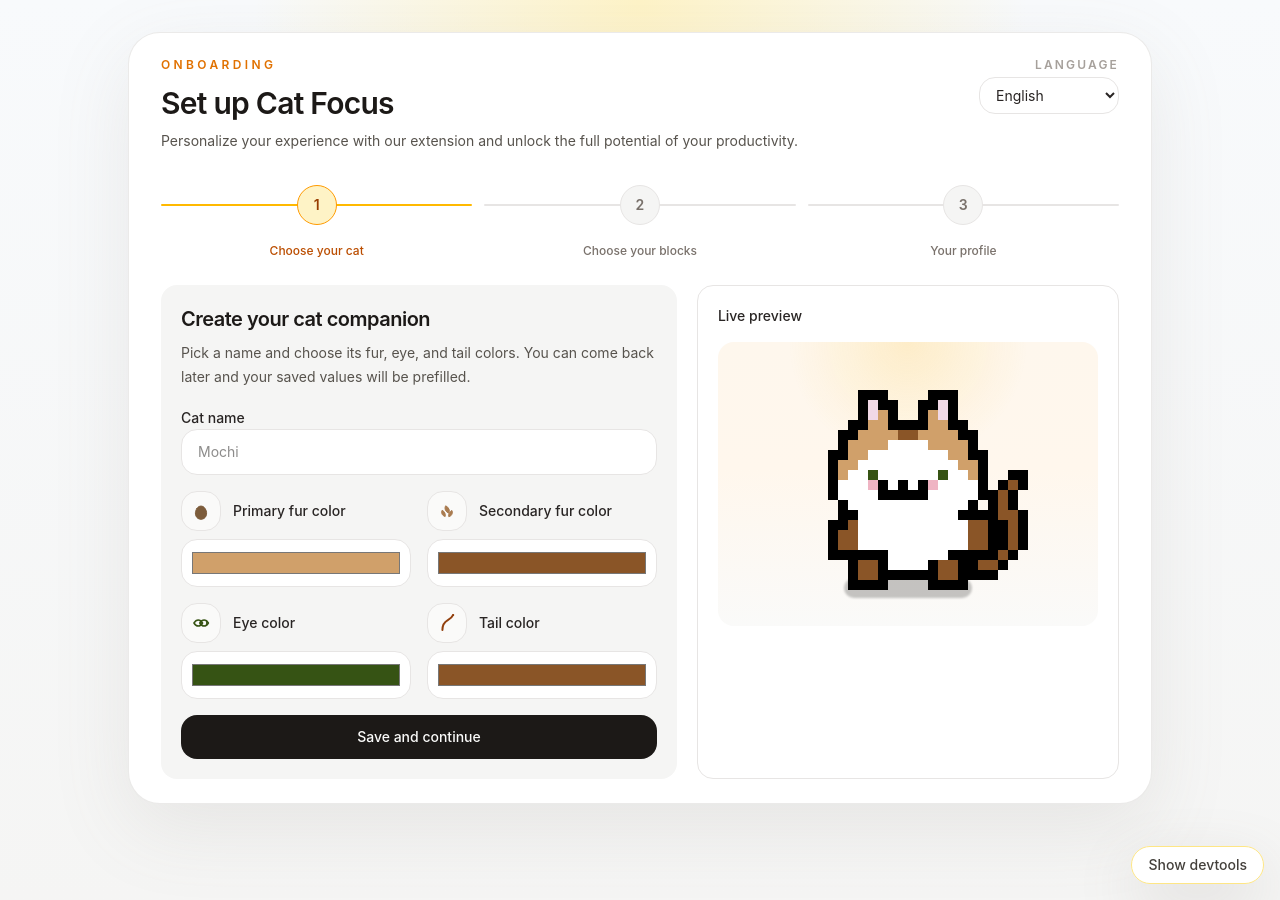
Test: options developer tools › skips onboarding and lands on the dashboard
Check: the heading "Set up Cat Focus" is shown, box [161,85,394,121]
Click the button "Show devtools" at (1198, 865), box [1132,846,1264,884]
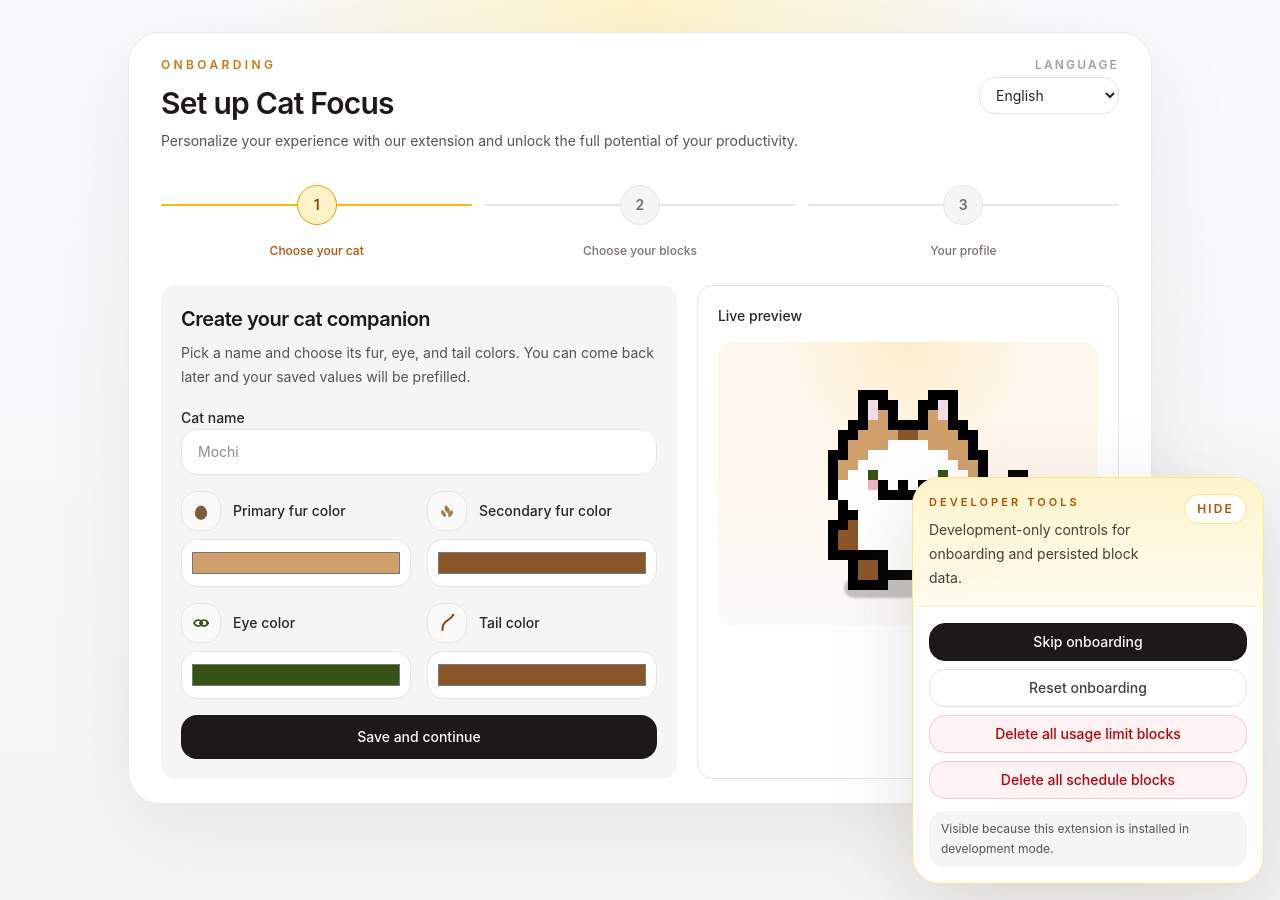
Click the button "Skip onboarding" at (1088, 642), box [929,623,1247,661]
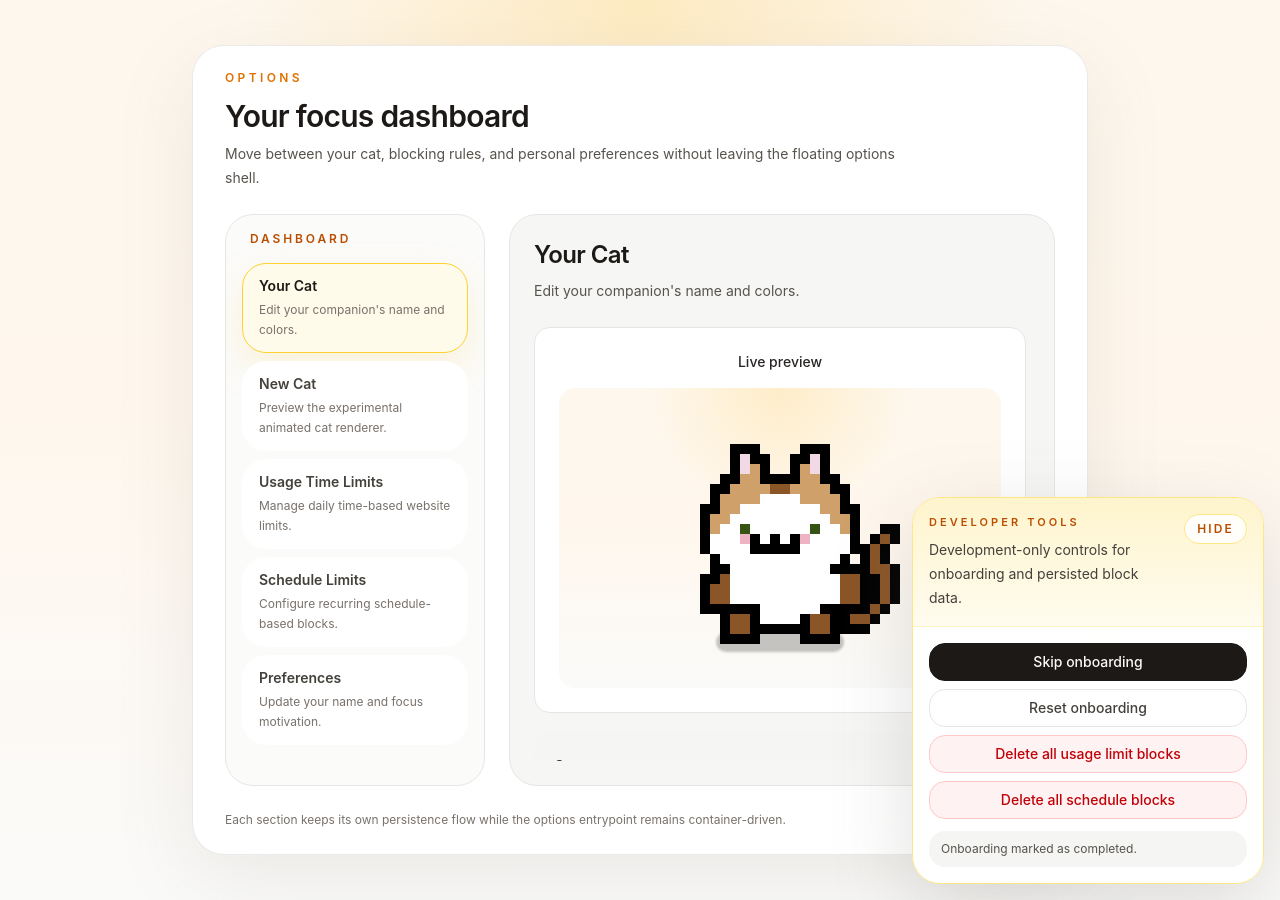
Check: the heading "Your focus dashboard" is shown, box [225,98,529,134]
Check: the text "Onboarding marked as completed." is shown, box [929,831,1247,867]
